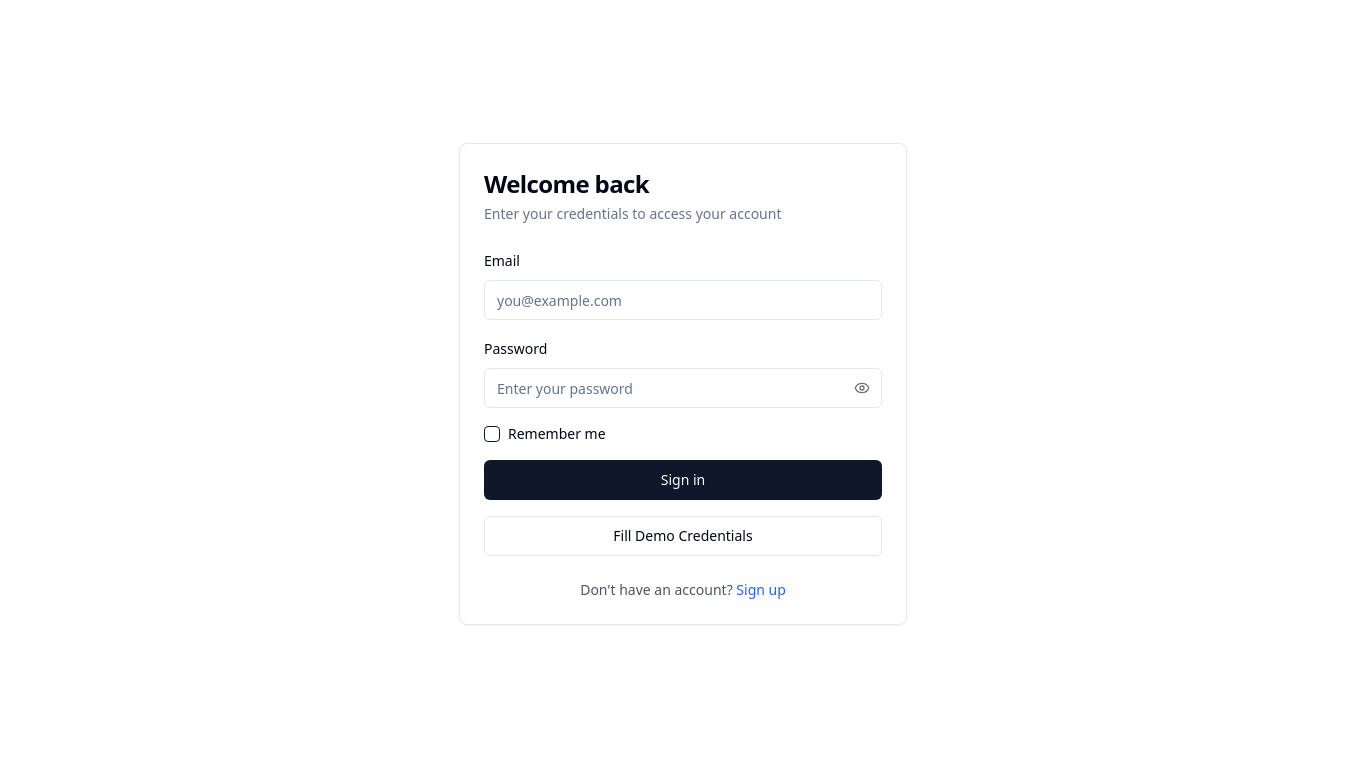
it: LoginPage › demo login › should fill form with demo credentials
Click the button "Fill Demo Credentials" at (683, 536), box [484, 516, 882, 556]
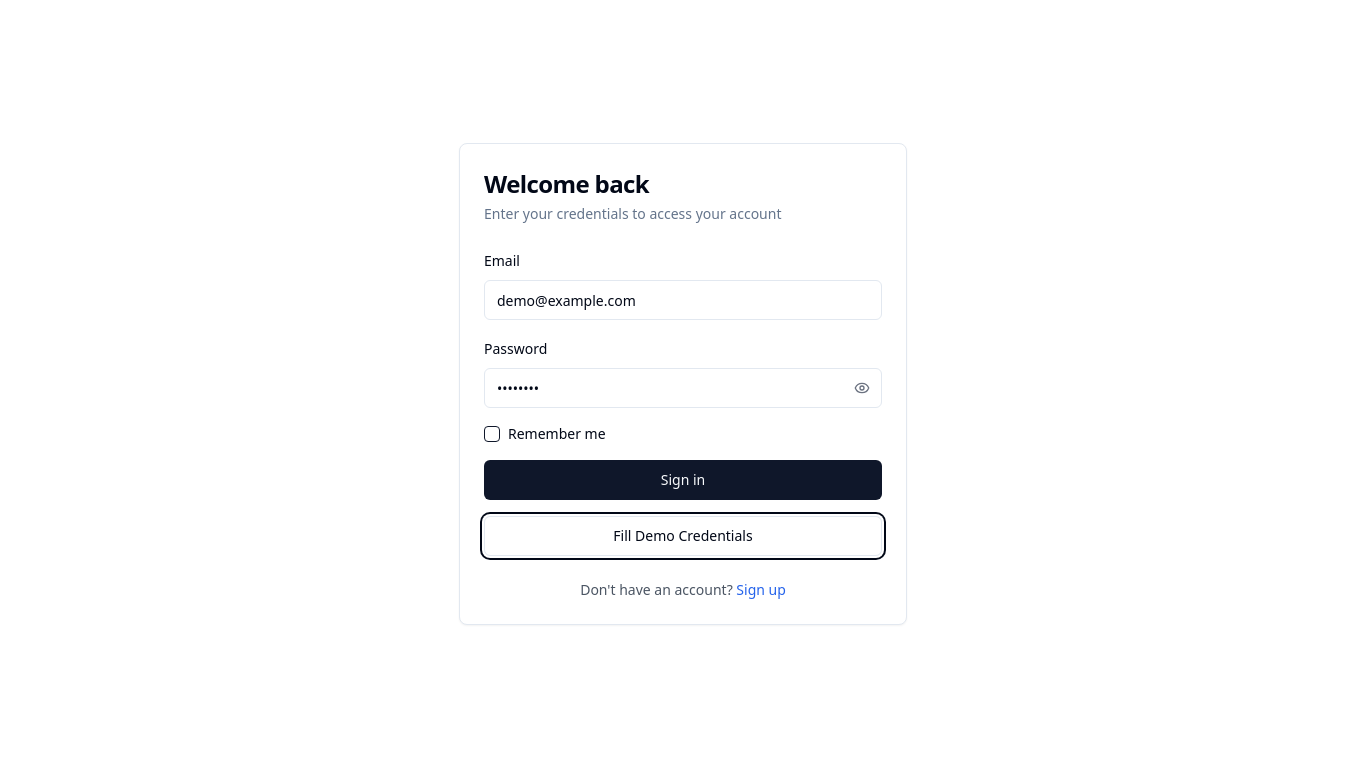
Now the field labelled "Email" holds "demo@example.com", box [484, 280, 882, 320]
Now the password field labelled "Password" holds "demo1234", box [484, 368, 882, 408]
